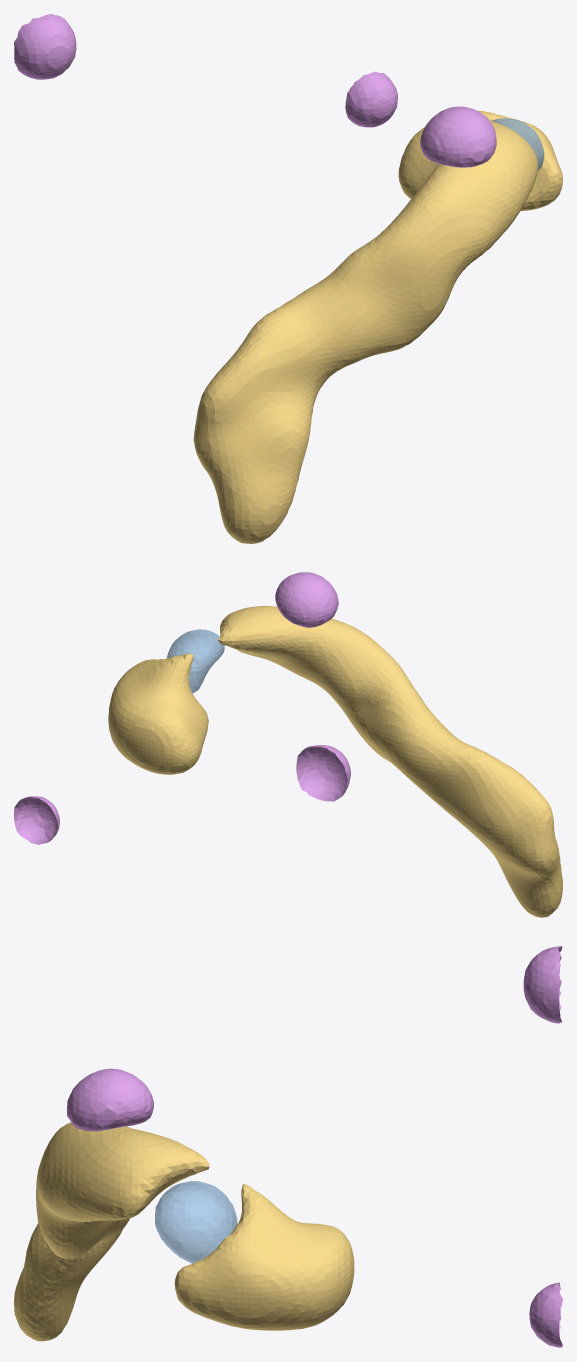
The model's file is prompt.glb.
3 renders of one model, top to bottom at view 1: azimuth 30°, elevation 25°; view 2: azimuth 150°, elevation 25°; view 3: azimuth 270°, elevation 25°, orthographic. The views are drawn at different scales.
Visible parts, largest first — view 1: world; view 2: world; view 3: world.
Boxes of the visible parts, box(x1,y1,x2,y2) form: world: box(14, 14, 562, 543); world: box(14, 572, 562, 917); world: box(14, 946, 562, 1347).
Bounding box in the file's own units: 0.734 × 0.5867 × 0.7304.
